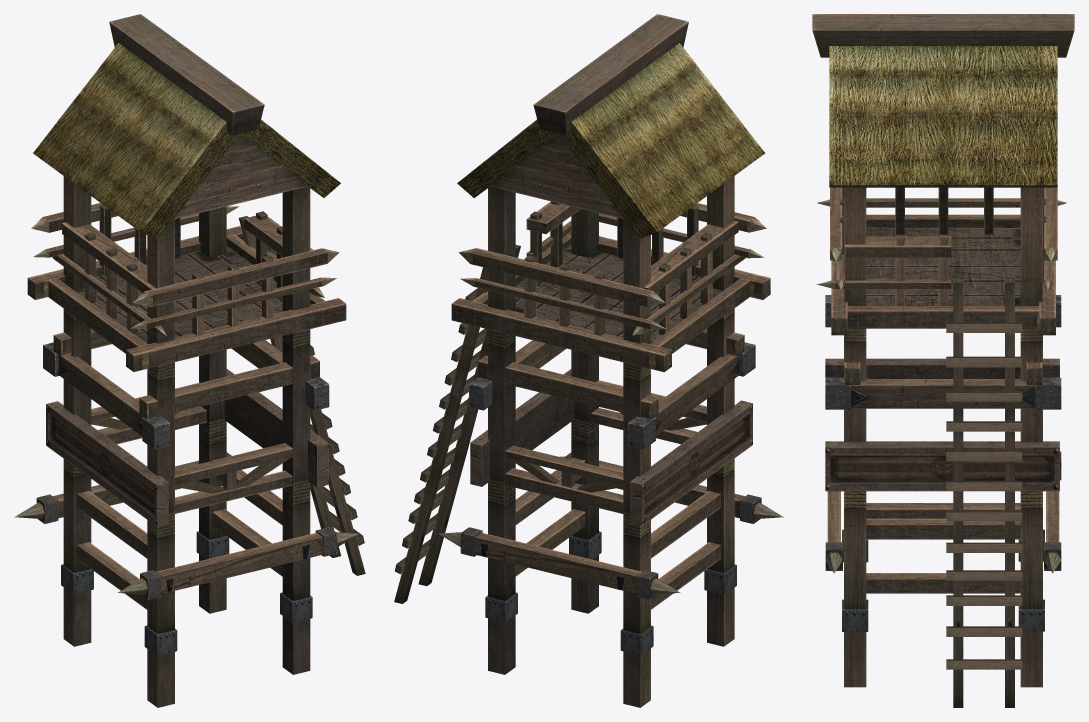
File: fortms_watchtower.fbx
3 renders of one model, left to right at view 1: azimuth 30°, elevation 25°; view 2: azimuth 150°, elevation 25°; view 3: azimuth 270°, elevation 25°, orthographic. The views are drawn at different scales.
Visible parts, largest first — view 1: fortMS_watchtower; view 2: fortMS_watchtower; view 3: fortMS_watchtower.
Part boxes in pixels (<box>): fortMS_watchtower: <box>14,14,365,707</box>; fortMS_watchtower: <box>394,14,783,707</box>; fortMS_watchtower: <box>812,14,1074,707</box>.
Size of the model in its own units: 7.81 by 14.51 by 5.51.
